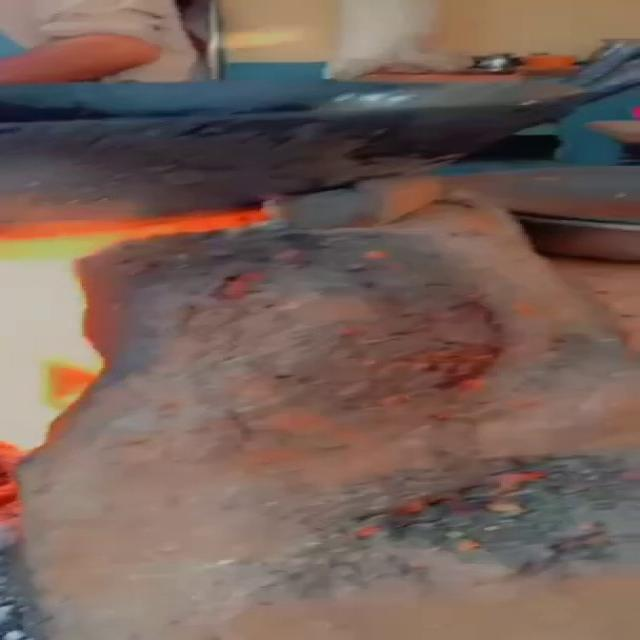Fire: (0, 217, 206, 451)
